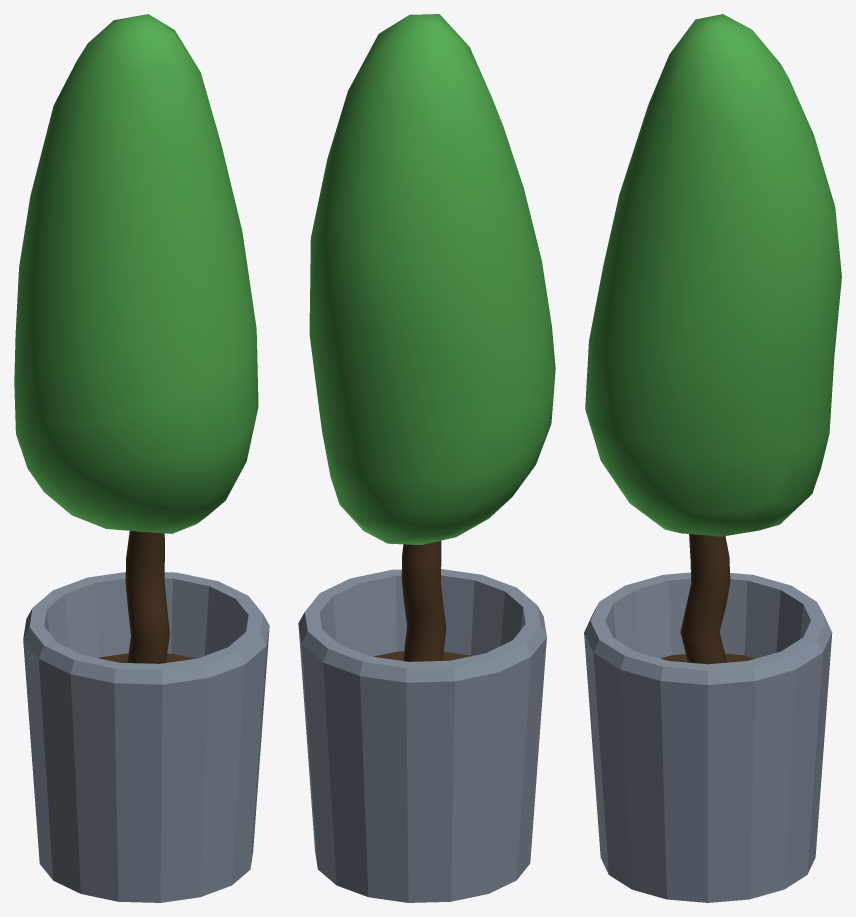
File: TallPlant.fbx
3 views of the same model, side by side, from view 1: azimuth 30°, elevation 25°; view 2: azimuth 150°, elevation 25°; view 3: azimuth 270°, elevation 25° (orthographic).
Parts seen in each view (by area): view 1: Cylinder; view 2: Cylinder; view 3: Cylinder.
Boxes of the visible parts, x1,y1,x2,y2 form: Cylinder: [14, 14, 269, 902]; Cylinder: [298, 14, 555, 902]; Cylinder: [584, 14, 841, 902].
Bounding box in the file's own units: 269 × 269 × 961.
